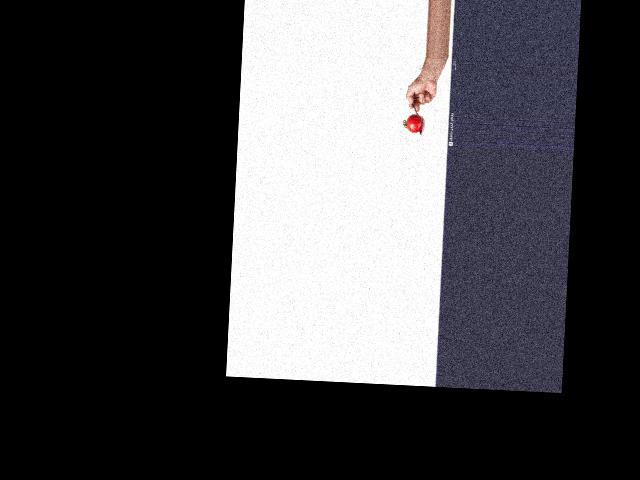tomato: (406, 113, 422, 132)
